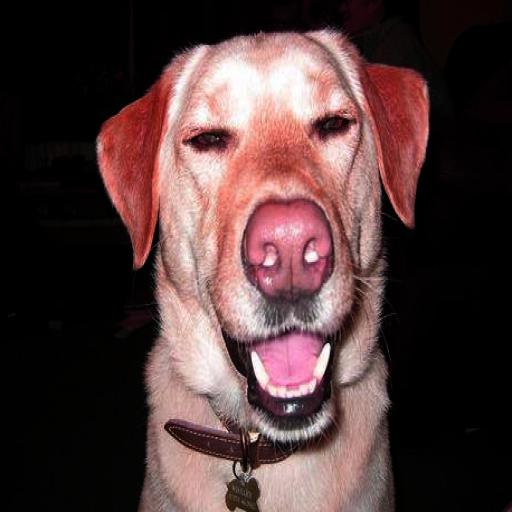dog_face: (111, 26, 430, 441)
